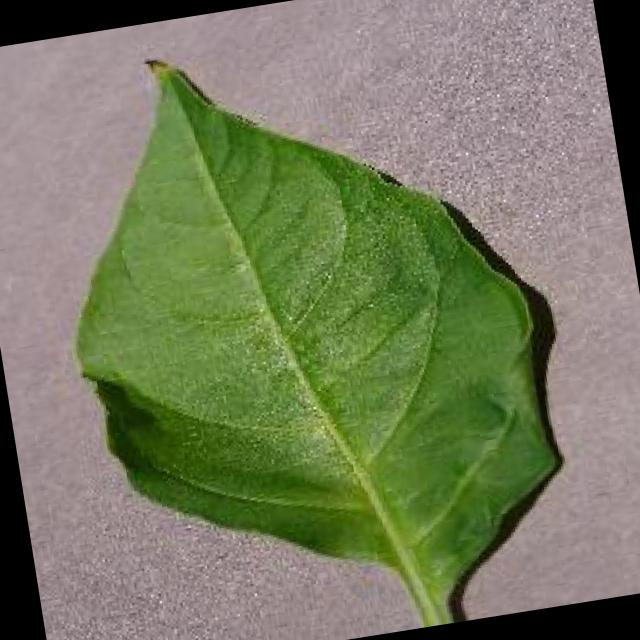Chilli_Healthy: (28, 0, 597, 640)
